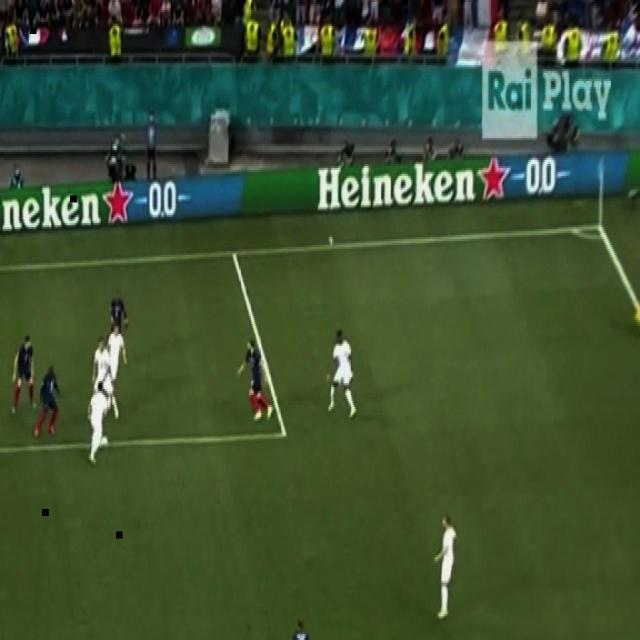player-white: (232, 334, 276, 426), (432, 504, 460, 624), (324, 320, 356, 420), (91, 331, 121, 423), (32, 358, 64, 443), (8, 329, 38, 417), (85, 378, 113, 467), (105, 318, 129, 391), (104, 282, 130, 342), (285, 610, 311, 640), (634, 252, 640, 342)
